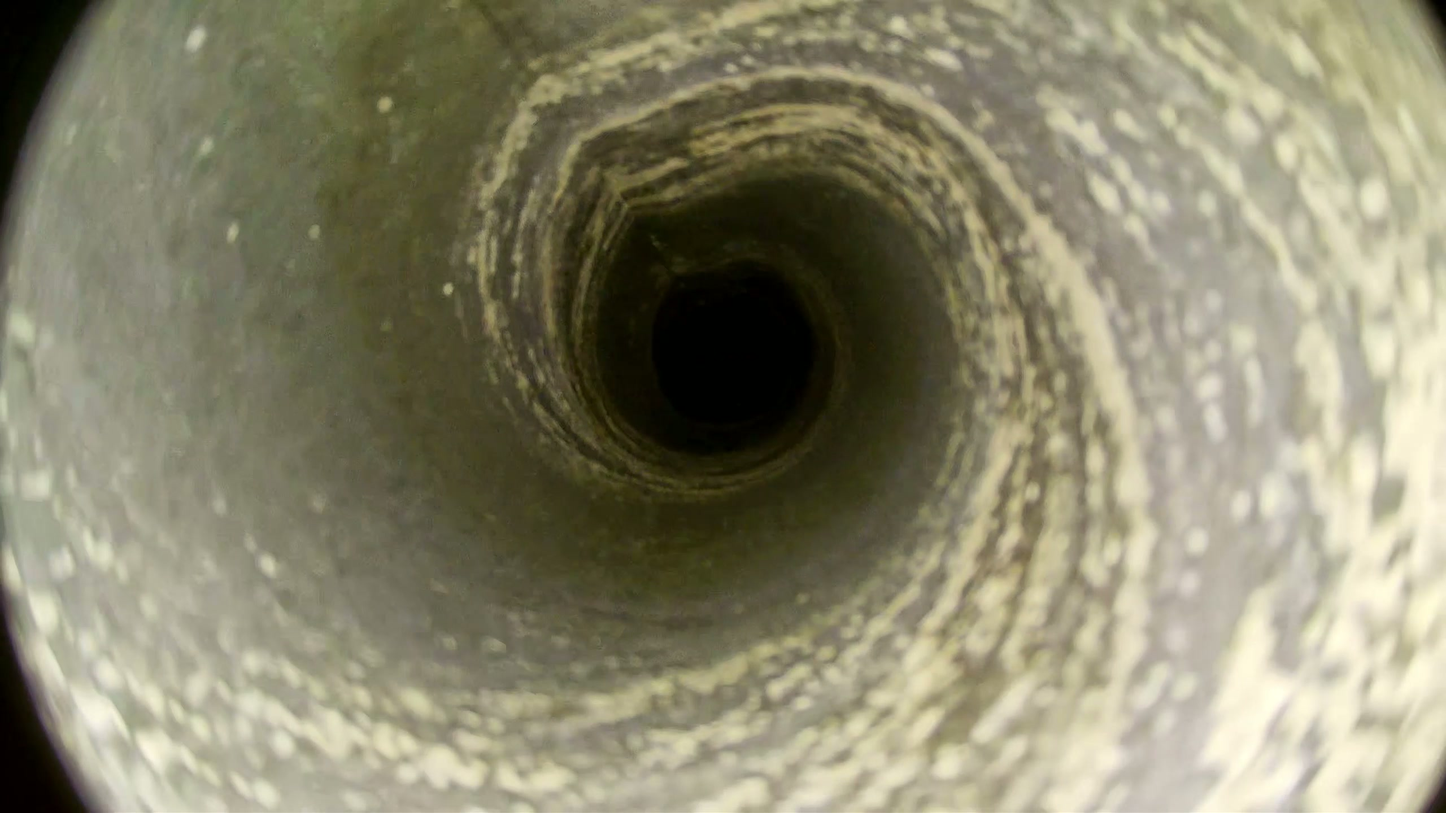hole: (660, 290, 793, 421)
